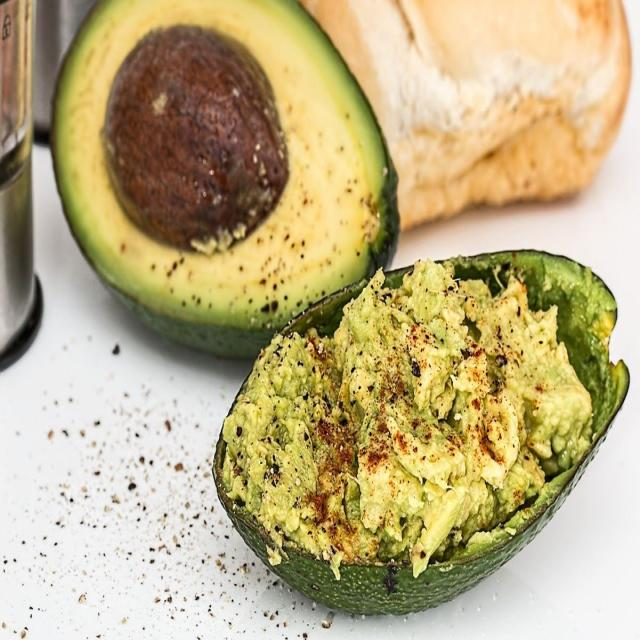aguacate: (49, 2, 405, 354)
